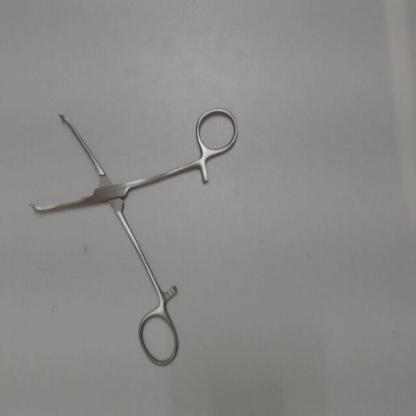Allis Tissue Forceps: (19, 97, 244, 374)
